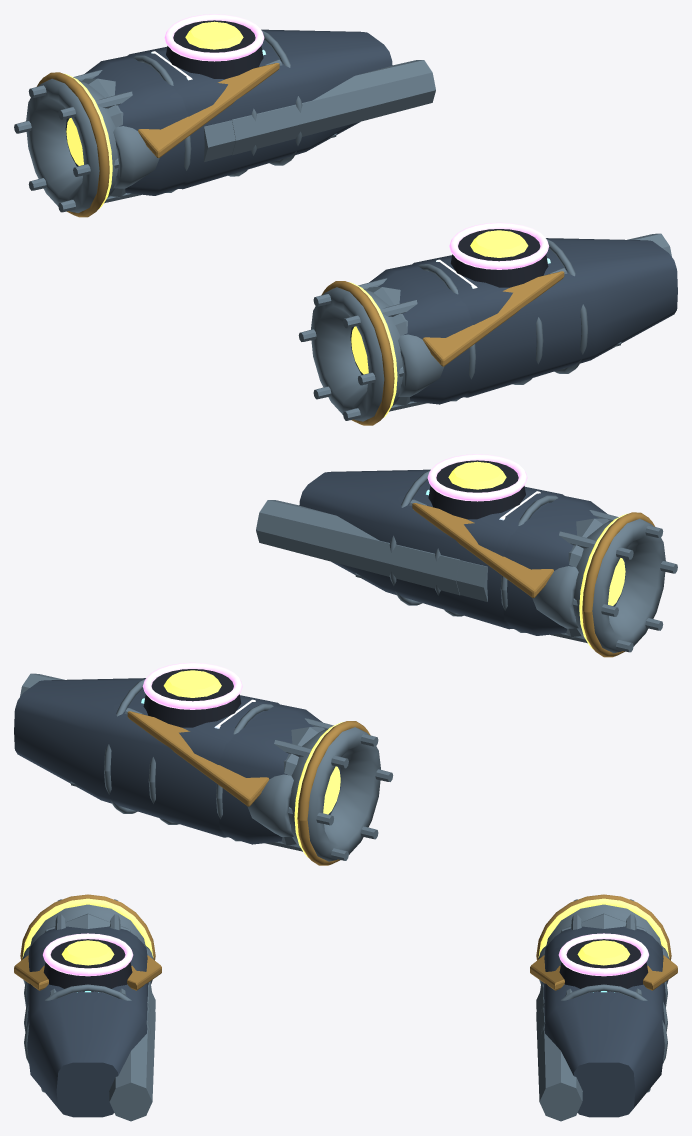
Rendered from engine.glb.
3 views of the same model, one above another, from view 1: azimuth 30°, elevation 25°; view 2: azimuth 150°, elevation 25°; view 3: azimuth 270°, elevation 25° (orthographic). The views are drawn at different scales.
Parts seen in each view (by area): view 1: e_twin Fitting gunmetal, e_nova Brushed fitting edges, e_twin Brushed fitting edges, e_nova Fitting gunmetal, e_nova Champagne gold edging, e_fusion Machined graphite, e_fusion e_fusion emitter, e_ion Brushed fitting edges, e_fusion Fusion amber core, e_nova e_nova emitter, e_fusion Brushed fitting edges; view 2: e_twin Fitting gunmetal, e_nova Brushed fitting edges, e_twin Brushed fitting edges, e_nova Fitting gunmetal, e_nova Champagne gold edging, e_fusion Machined graphite, e_fusion e_fusion emitter, e_ion Brushed fitting edges, e_fusion Fusion amber core, e_nova e_nova emitter, e_fusion Brushed fitting edges; view 3: e_twin Fitting gunmetal, e_twin Brushed fitting edges, e_nova Champagne gold edging, e_fusion Machined graphite, e_nova Brushed fitting edges, e_fusion e_fusion emitter, e_nova Fitting gunmetal, e_nova e_nova emitter, e_fusion Fusion amber core, e_ion Brushed fitting edges, e_fusion Brushed fitting edges.
Boxes of the visible parts, x1,y1,x2,y2 form: e_twin Fitting gunmetal: (127,29,677,397); e_nova Brushed fitting edges: (14,70,426,421); e_twin Brushed fitting edges: (113,59,671,396); e_nova Fitting gunmetal: (65,56,472,404); e_nova Champagne gold edging: (36,63,564,425); e_fusion Machined graphite: (166,20,548,287); e_fusion e_fusion emitter: (164,14,549,269); e_ion Brushed fitting edges: (133,30,587,401); e_fusion Fusion amber core: (185,21,528,257); e_nova e_nova emitter: (64,73,397,417); e_fusion Brushed fitting edges: (82,78,621,405); e_twin Fitting gunmetal: (14,469,564,837); e_nova Brushed fitting edges: (265,510,677,861); e_twin Brushed fitting edges: (20,499,578,836); e_nova Fitting gunmetal: (218,496,626,844); e_nova Champagne gold edging: (127,503,655,865); e_fusion Machined graphite: (143,460,525,727); e_fusion e_fusion emitter: (142,454,527,709); e_ion Brushed fitting edges: (104,470,557,841); e_fusion Fusion amber core: (163,461,506,697); e_nova e_nova emitter: (294,513,627,857); e_fusion Brushed fitting edges: (70,518,609,845); e_twin Fitting gunmetal: (26,947,665,1117); e_twin Brushed fitting edges: (22,941,669,1121); e_nova Champagne gold edging: (14,894,677,990); e_fusion Machined graphite: (43,939,648,991); e_nova Brushed fitting edges: (30,899,661,1010); e_fusion e_fusion emitter: (43,933,648,976); e_nova Fitting gunmetal: (28,926,663,963); e_nova e_nova emitter: (22,898,669,957); e_fusion Fusion amber core: (61,940,630,965); e_ion Brushed fitting edges: (24,981,667,1063); e_fusion Brushed fitting edges: (41,913,650,1092).
Size of the model in its own units: 15.81 by 6.2 by 28.32.
